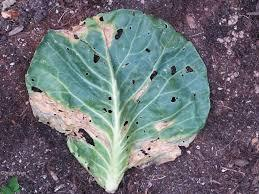Bok-Choy-Diseased: (25, 9, 209, 170)
